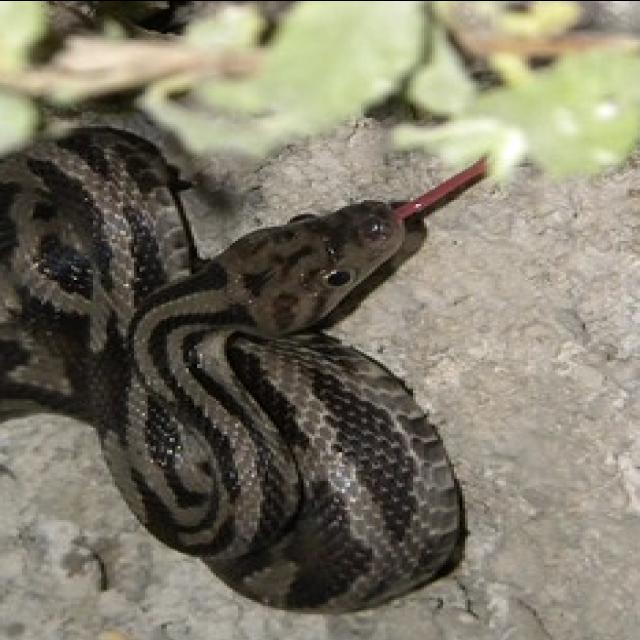Snake: (1, 121, 478, 640)
